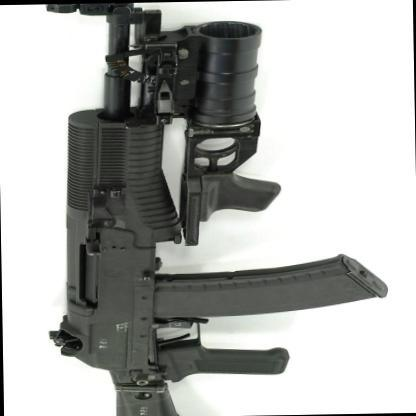rifle: (14, 4, 378, 416)
